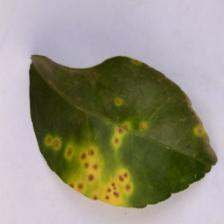canker: (23, 67, 224, 214)
